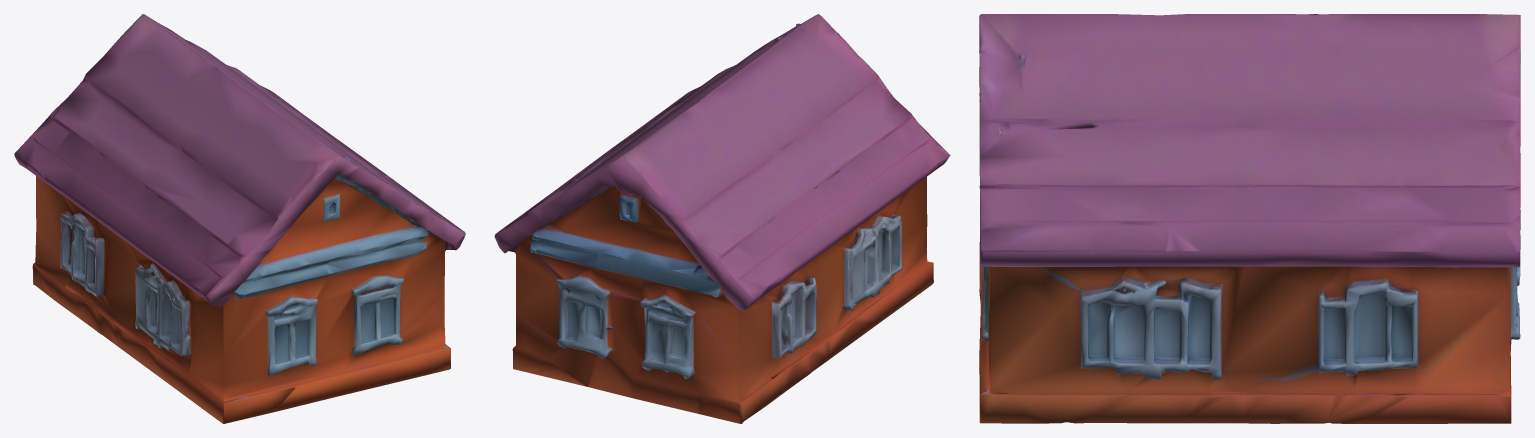
File: Red_House.glb
The picture shows the model from 3 angles, left to right: view 1: azimuth 30°, elevation 25°; view 2: azimuth 150°, elevation 25°; view 3: azimuth 270°, elevation 25°; orthographic projection. The views are drawn at different scales.
Size of the model in its own units: 1.53 by 1.36 by 2.
Materials: 1 (1 with a texture image).
